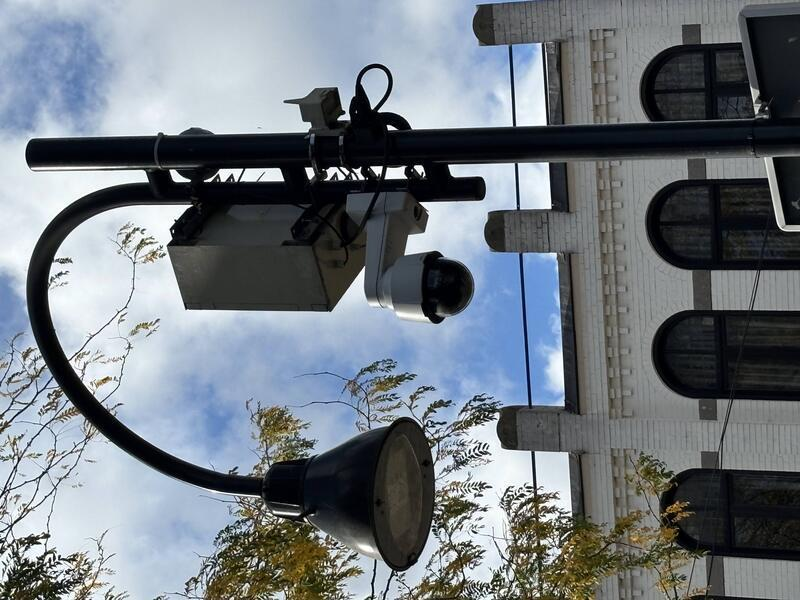dome: (269, 385, 356, 480)
